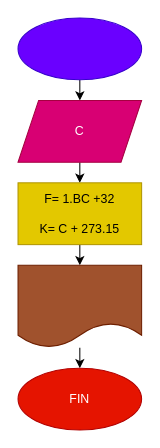
Some shapes in this 160 by 448 pixel diagram are drawn without their labels. Each missing label, with the centre of its shape:
F.K: point (79, 306)
INICIO: point (79, 48)
